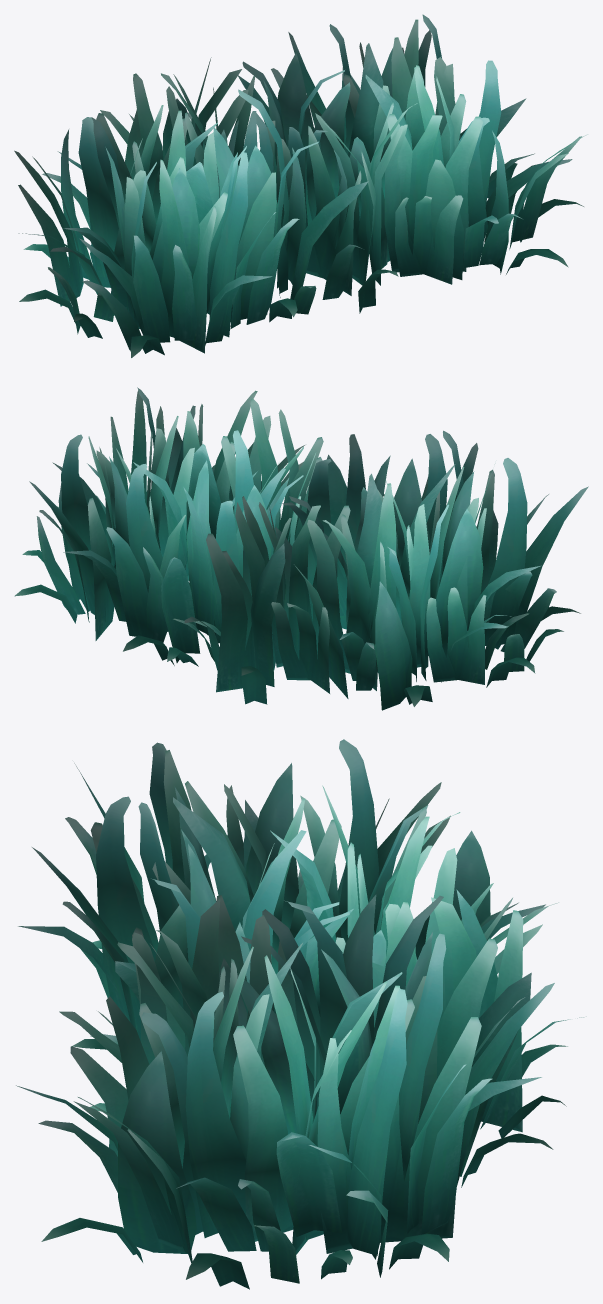
File: pref_sm_beach_winter_techgrass04_lv3.fbx
3 renders of one model, top to bottom at view 1: azimuth 30°, elevation 25°; view 2: azimuth 150°, elevation 25°; view 3: azimuth 270°, elevation 25°, orthographic. The views are drawn at different scales.
Parts seen in each view (by area): view 1: pref_sm_beach_winter_techgrass04_lv3; view 2: pref_sm_beach_winter_techgrass04_lv3; view 3: pref_sm_beach_winter_techgrass04_lv3.
Part boxes in pixels (box(x1,y1,x2,y2)): pref_sm_beach_winter_techgrass04_lv3: box(14, 14, 587, 357); pref_sm_beach_winter_techgrass04_lv3: box(14, 387, 588, 710); pref_sm_beach_winter_techgrass04_lv3: box(16, 739, 586, 1289).
Bounding box in the file's own units: 4.78 × 1.78 × 3.17.
